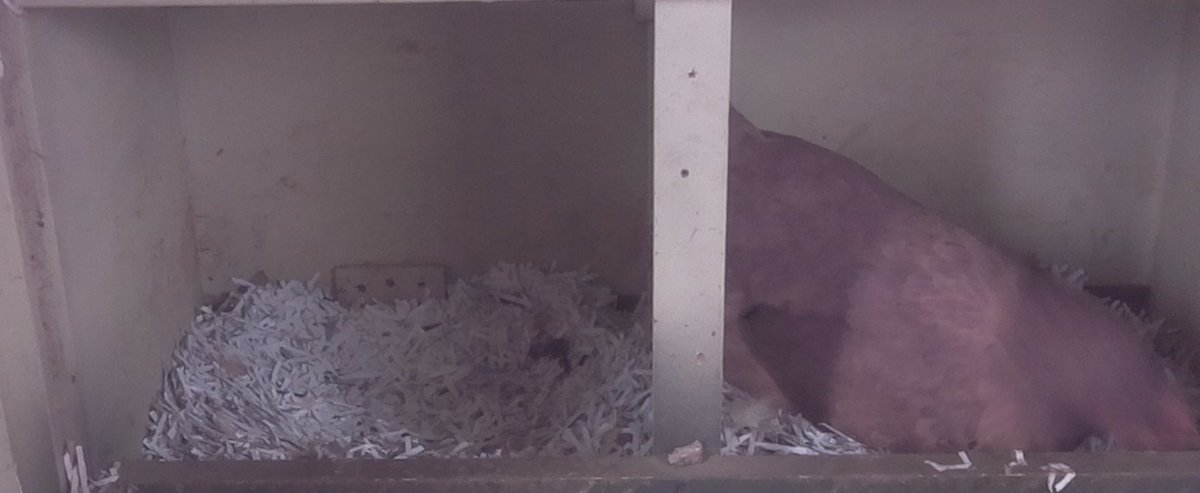hen: (724, 93, 1194, 450)
